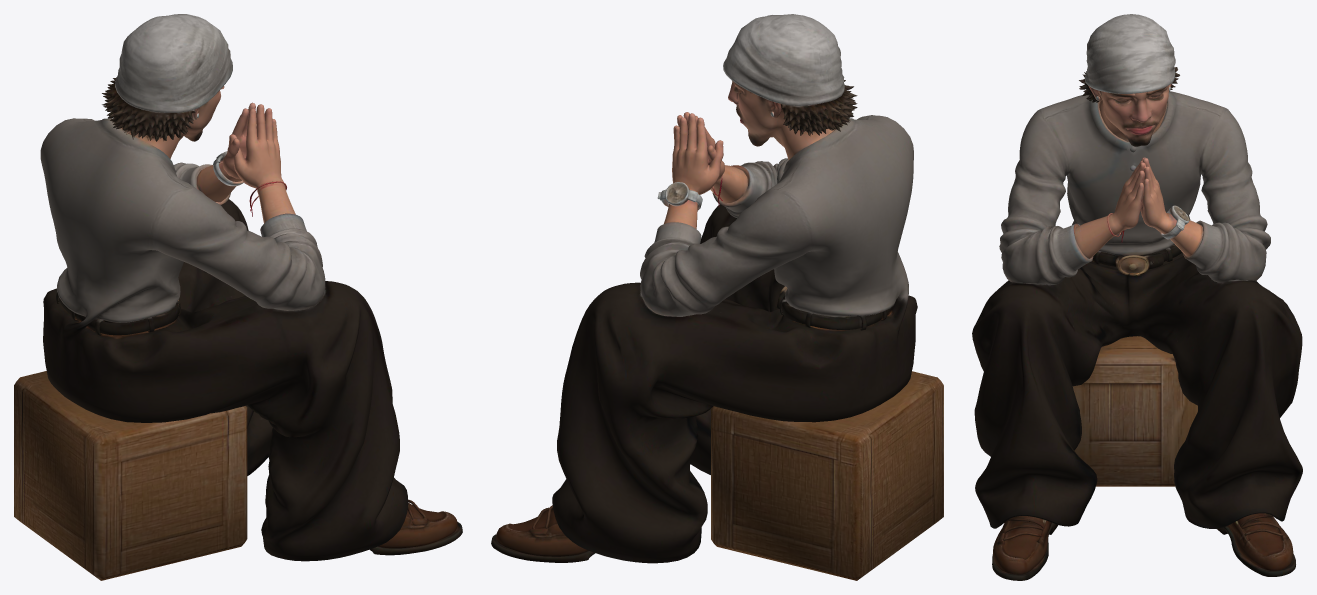
Rendered from rainn-v3.glb.
The picture shows the model from 3 angles, left to right: view 1: azimuth 30°, elevation 25°; view 2: azimuth 150°, elevation 25°; view 3: azimuth 270°, elevation 25°; orthographic projection. The views are drawn at different scales.
Parts seen in each view (by area): view 1: tripo_node_a974fdef-8b6d-4282-8752-e16e95b9e16b; view 2: tripo_node_a974fdef-8b6d-4282-8752-e16e95b9e16b; view 3: tripo_node_a974fdef-8b6d-4282-8752-e16e95b9e16b.
Boxes of the visible parts, x1,y1,x2,y2 form: tripo_node_a974fdef-8b6d-4282-8752-e16e95b9e16b: (14, 14, 462, 580); tripo_node_a974fdef-8b6d-4282-8752-e16e95b9e16b: (491, 14, 943, 580); tripo_node_a974fdef-8b6d-4282-8752-e16e95b9e16b: (972, 14, 1302, 580).
Bounding box in the file's own units: 0.686 × 0.9995 × 0.644.
Materials: 1 (1 with a texture image).
